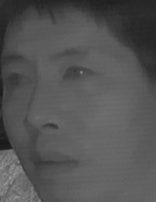eye: (59, 63, 100, 87), (1, 68, 32, 89)
mouth: (27, 144, 79, 180)
